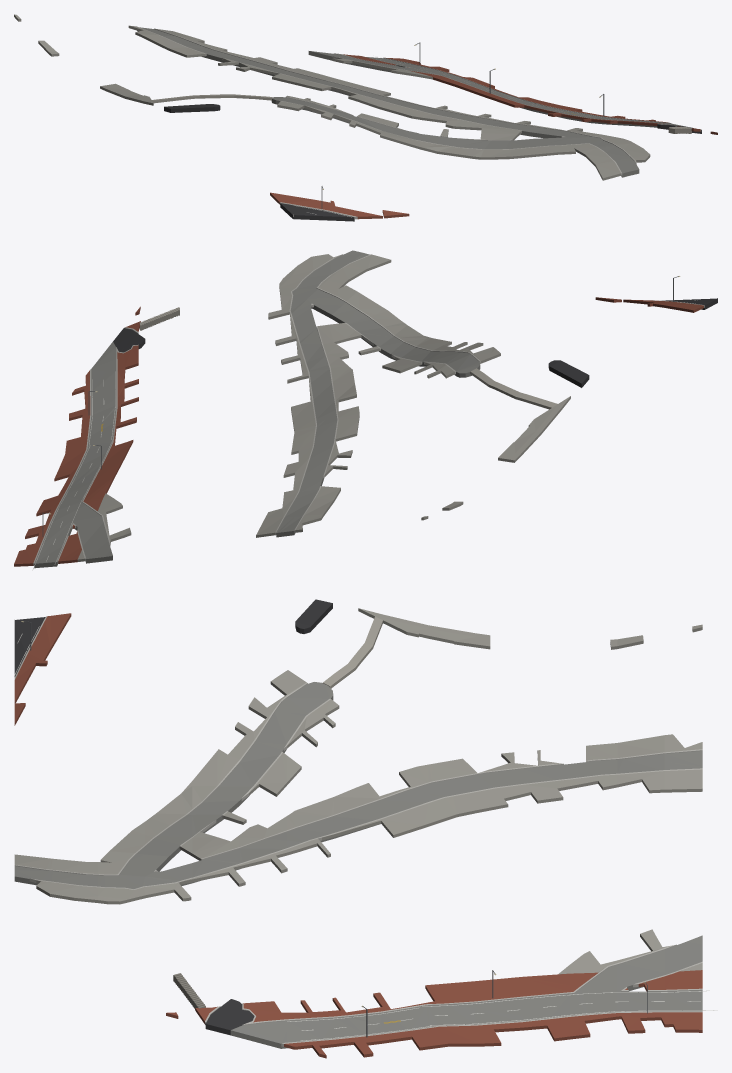
3 views of the same model, one above another, from view 1: azimuth 30°, elevation 25°; view 2: azimuth 150°, elevation 25°; view 3: azimuth 270°, elevation 25° (orthographic). The views are drawn at different scales.
Bounding box in the file's own units: 147 × 46.64 × 149.
